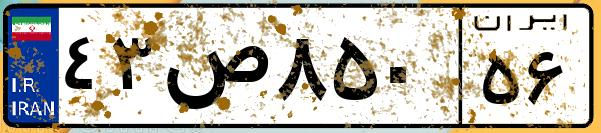0: (385, 28, 445, 110)
3: (110, 28, 158, 98)
4: (57, 26, 110, 100)
5: (330, 28, 385, 110), (475, 38, 525, 113)
6: (525, 38, 570, 115)
8: (270, 28, 330, 110)
ص: (158, 20, 270, 120)
